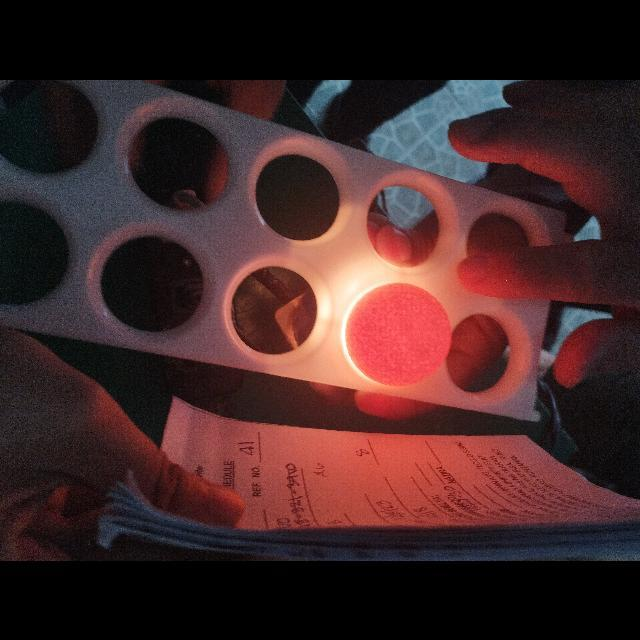Infertile: (347, 280, 449, 382)
